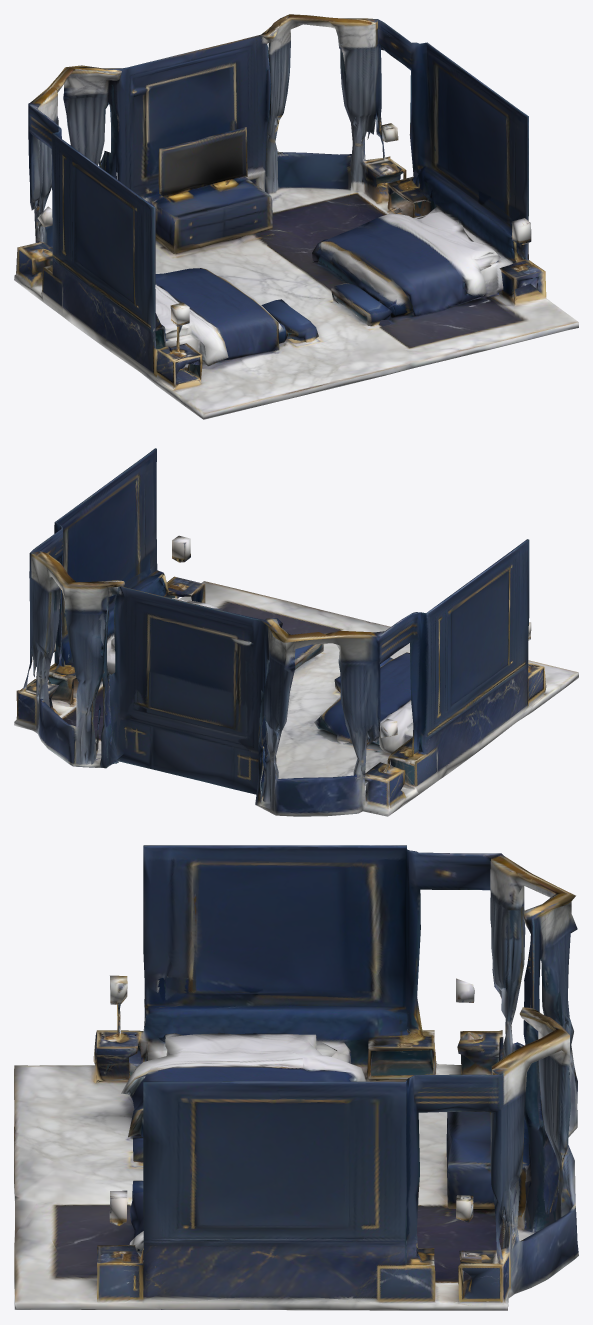
The model's file is suite2bed.glb.
3 renders of one model, top to bottom at view 1: azimuth 30°, elevation 25°; view 2: azimuth 150°, elevation 25°; view 3: azimuth 270°, elevation 25°, orthographic. The views are drawn at different scales.
Bounding box in the file's own units: 2 × 0.93 × 2.01.
Materials: 1 (1 with a texture image).
